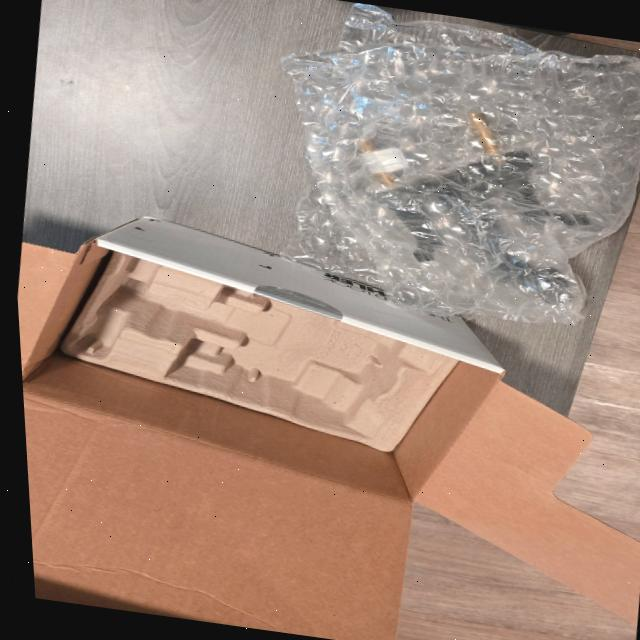9c: (285, 2, 640, 324)
